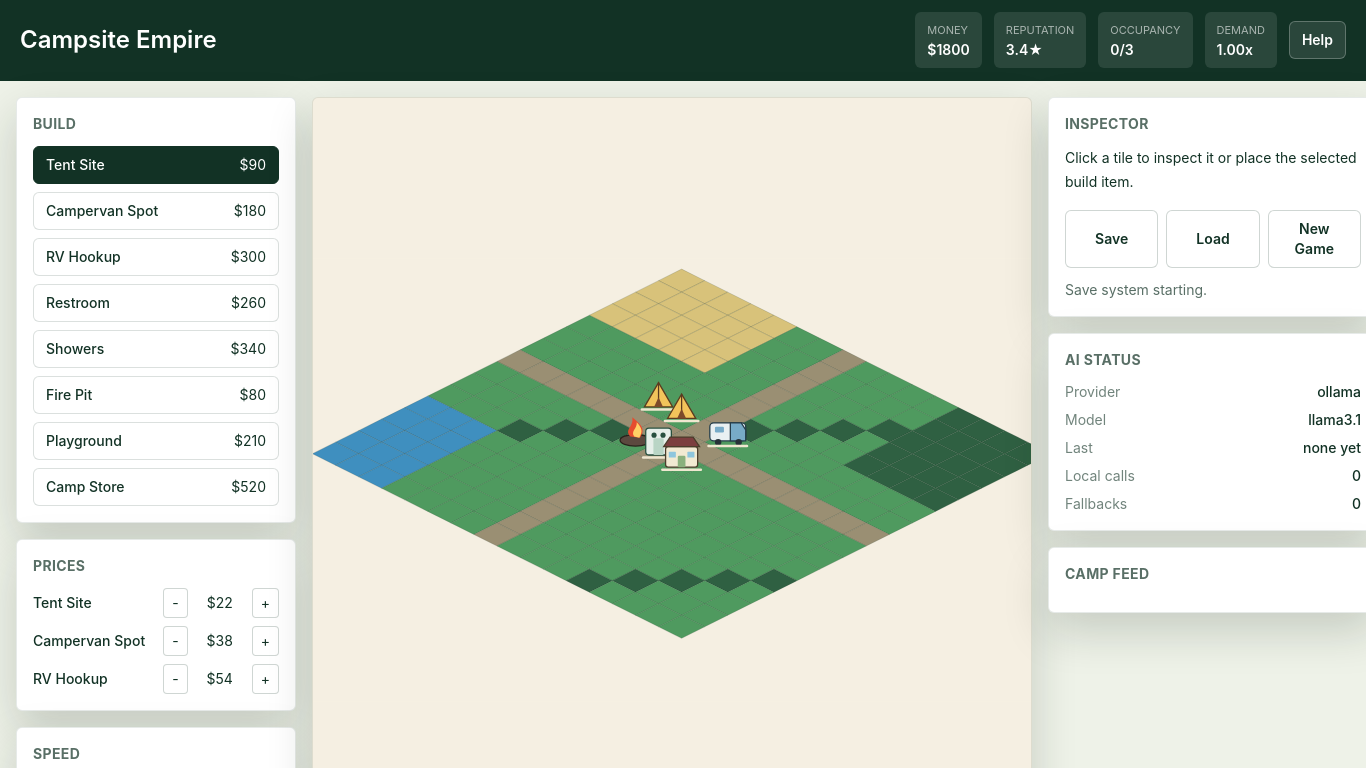
Scenario: App UI › reopens the tutorial from Help after it has been seen
Click the button "Help" at (1317, 40), box [1289,21,1346,59]
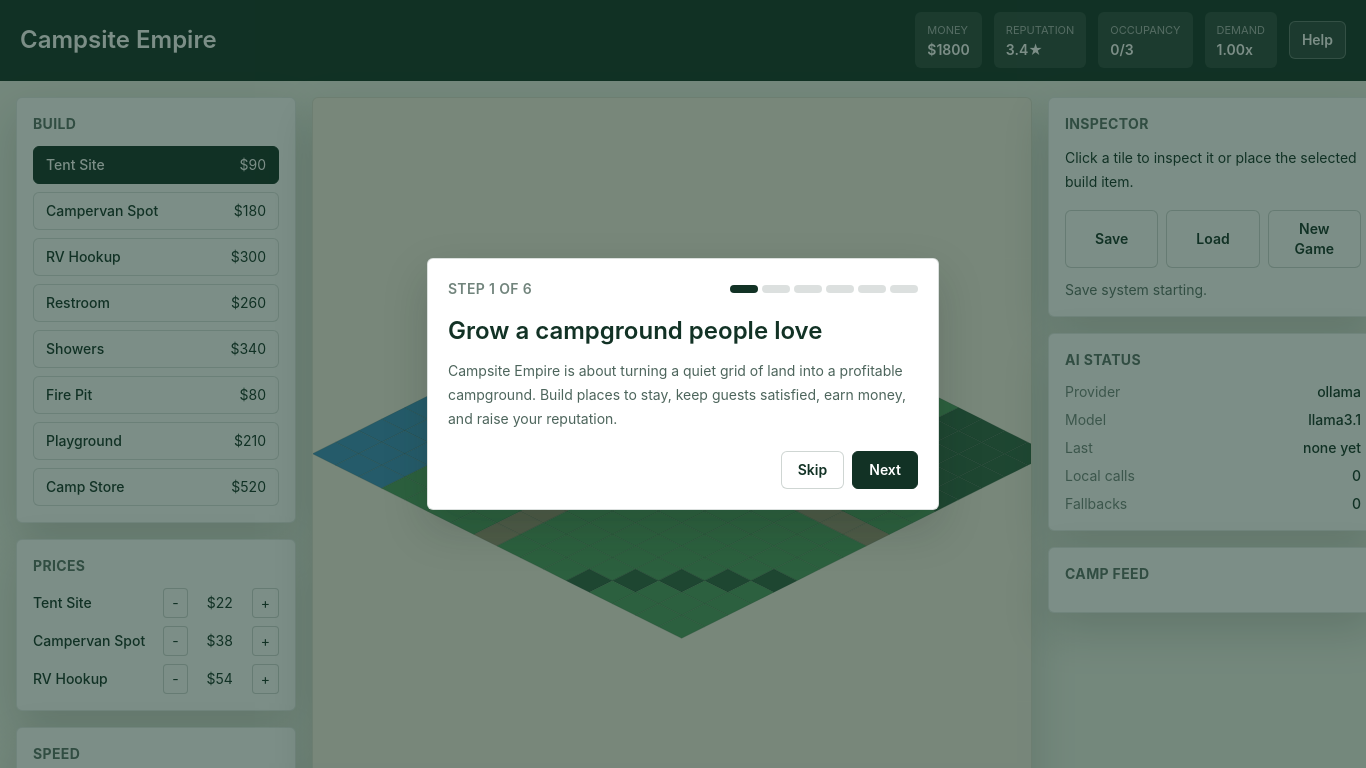
Result: the dialog "Grow a campground people love" is shown at [427,258,939,510]
Click the button "Skip" at (813, 470), box [781,451,844,489]
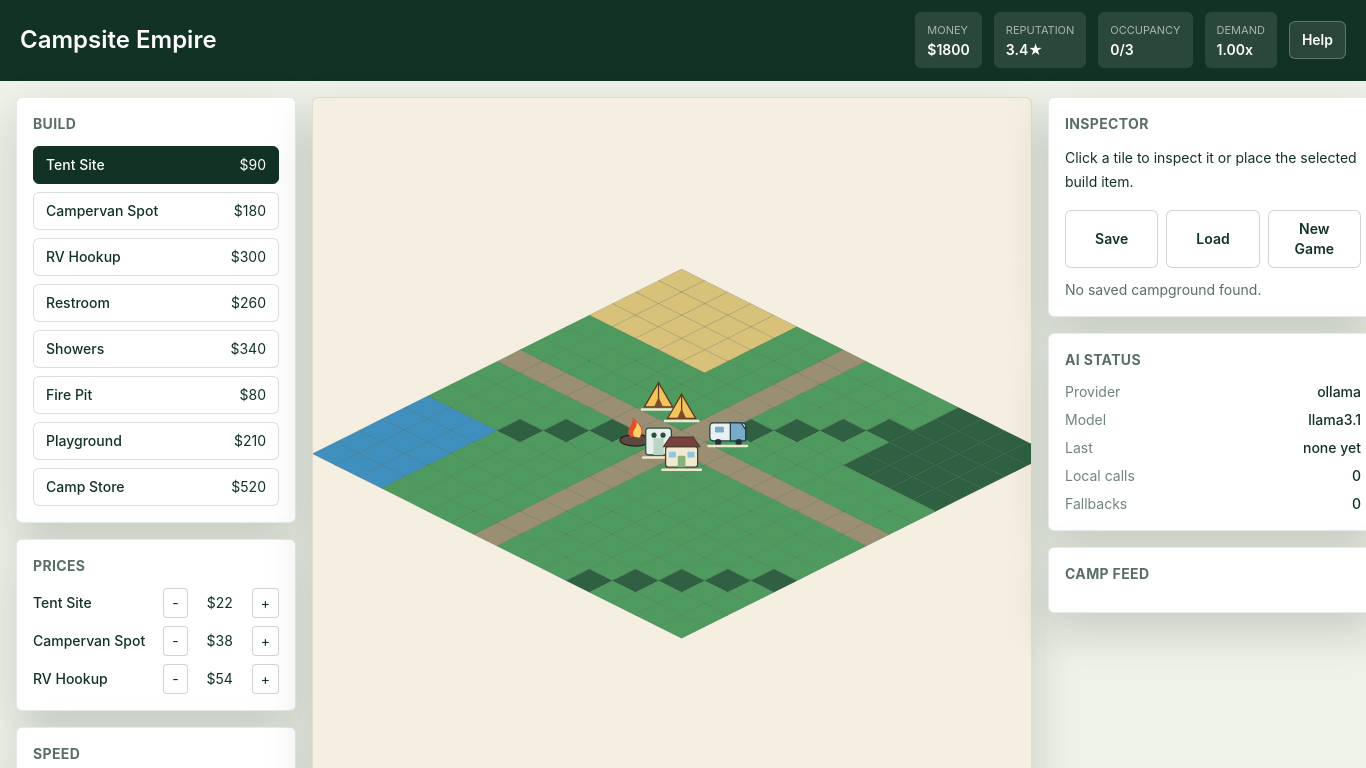
Result: the dialog is gone
